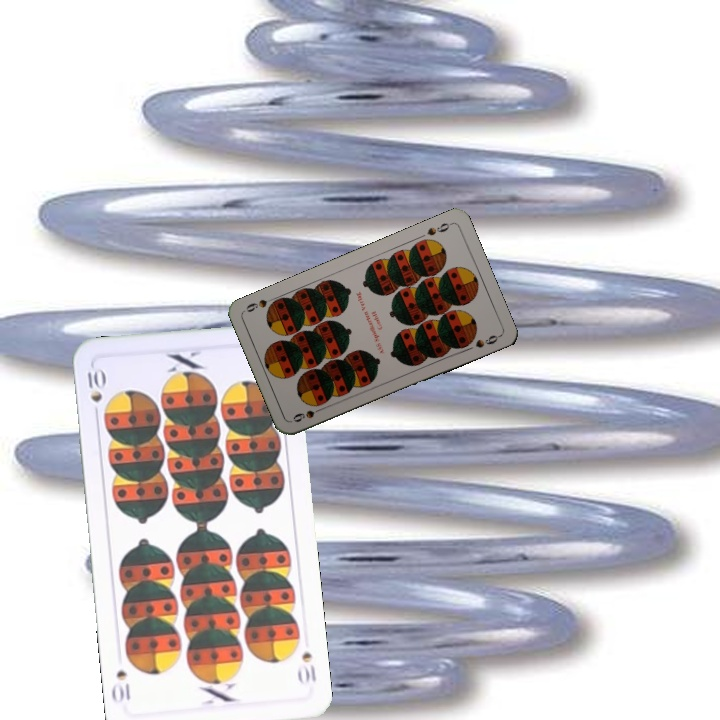S10: (83, 364, 106, 422), (294, 647, 319, 687)
S9: (289, 403, 328, 425), (423, 219, 455, 238)
